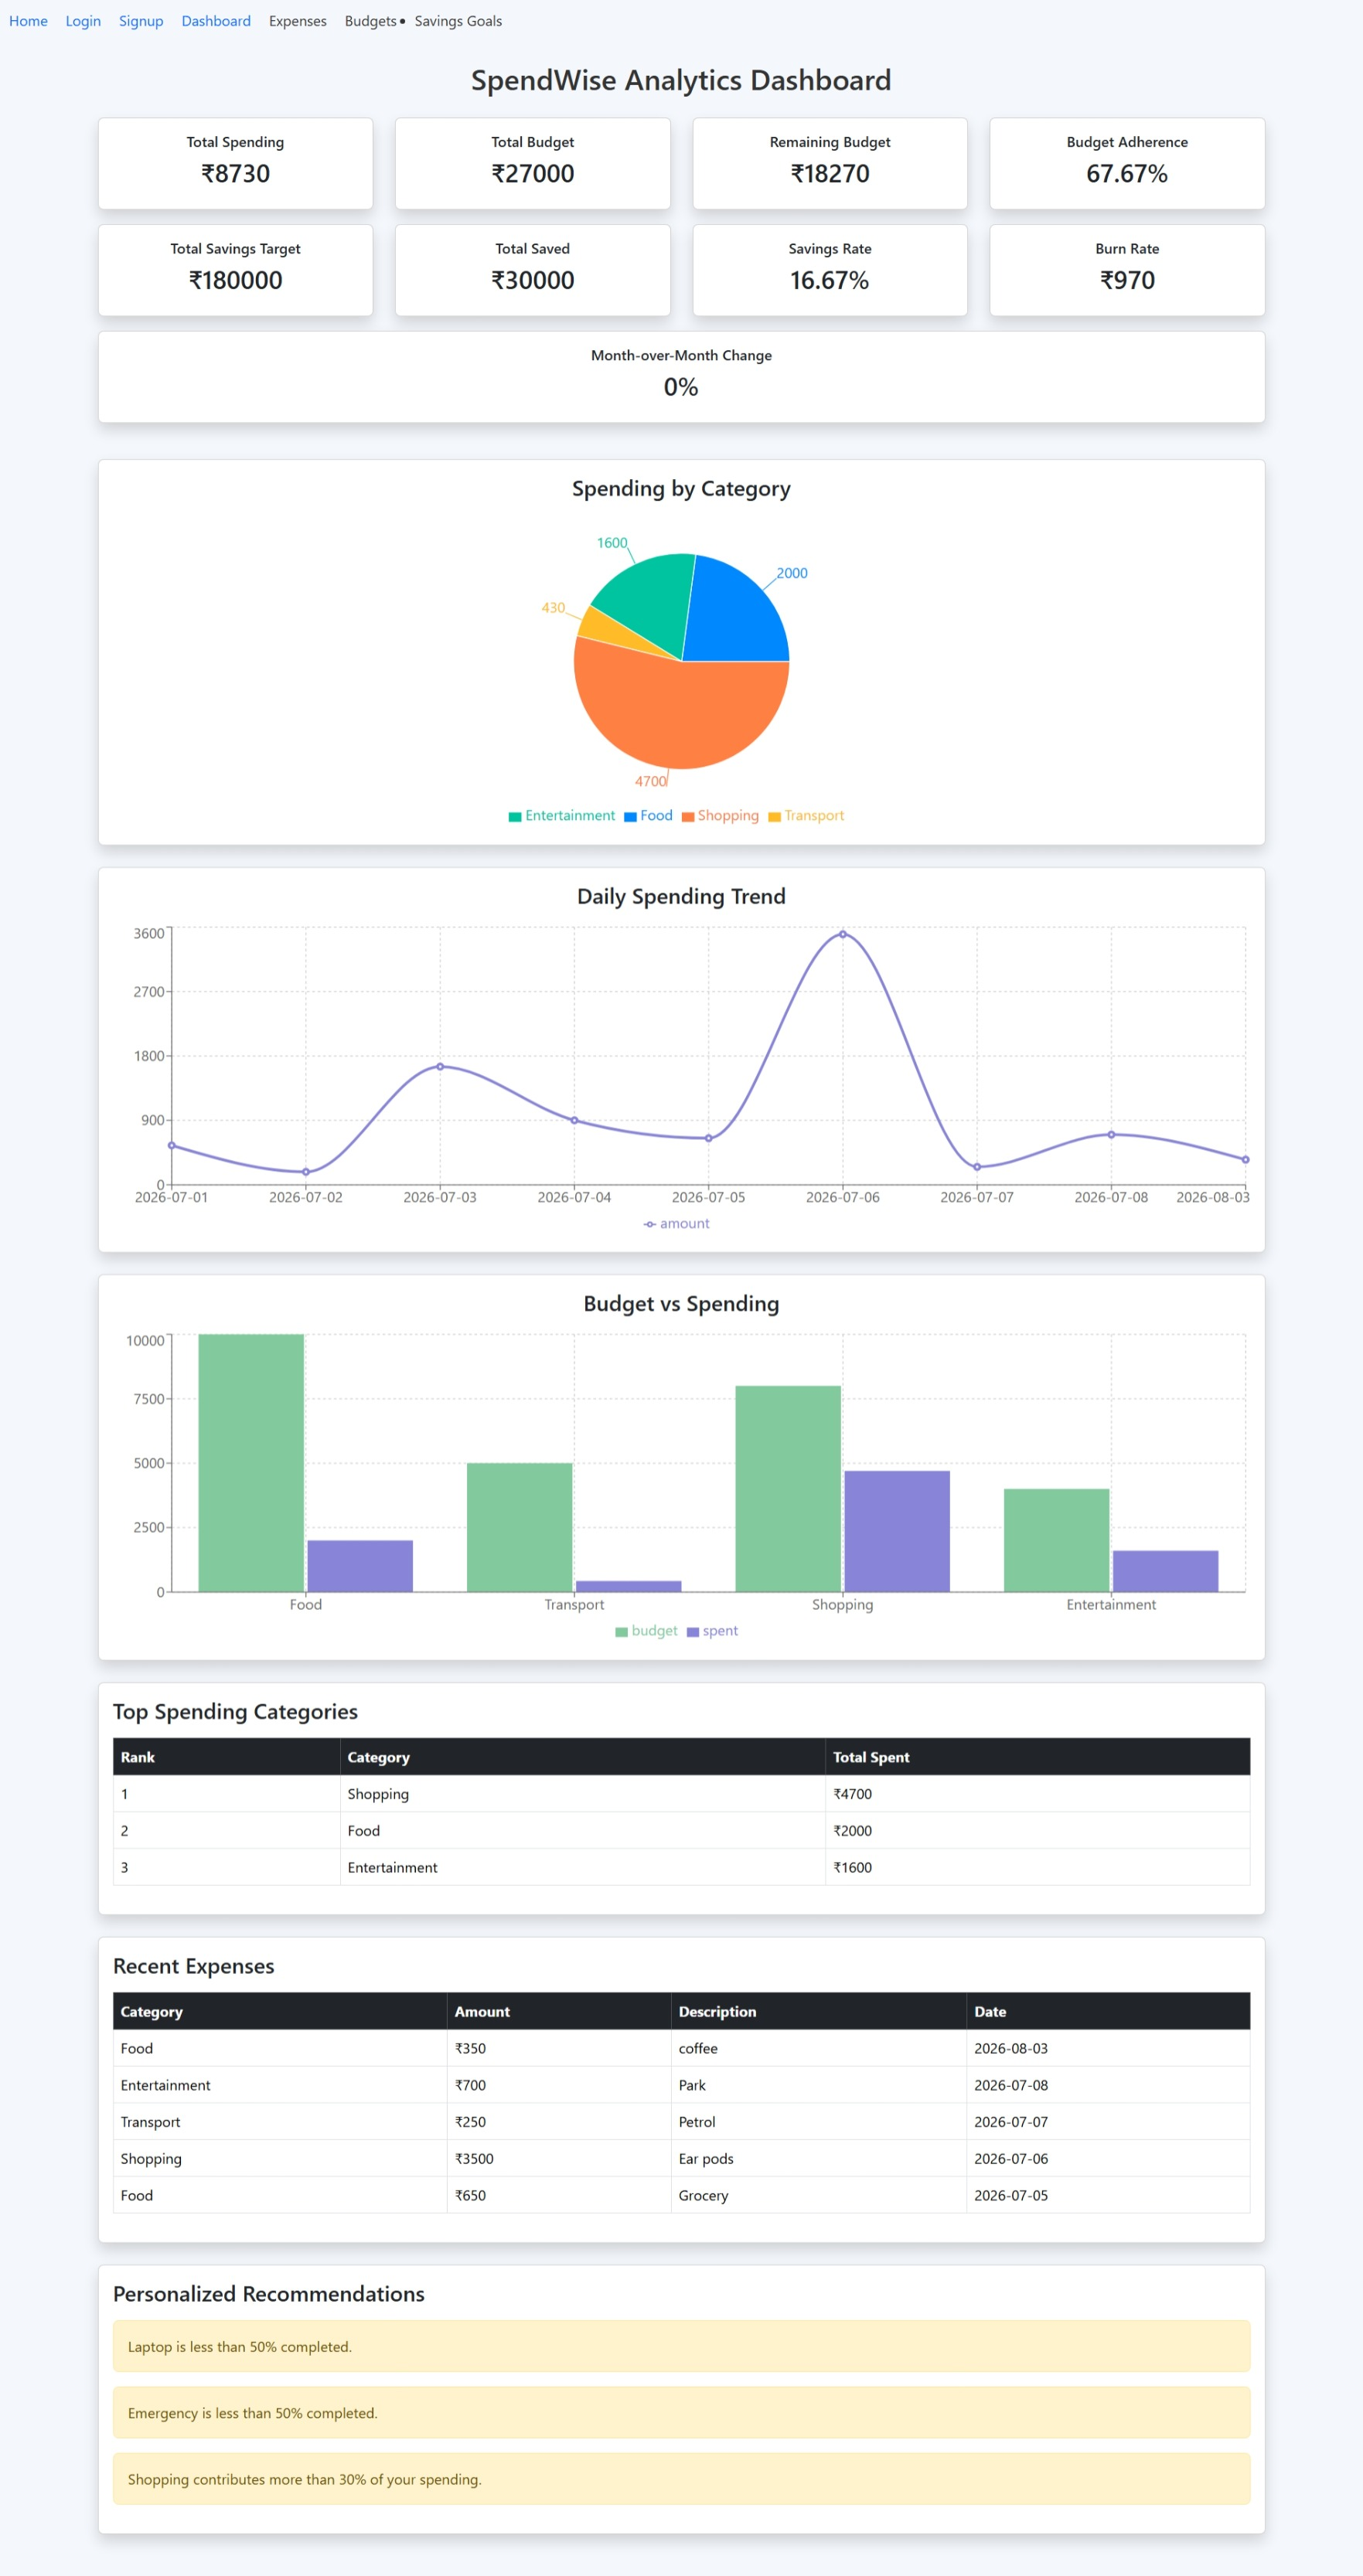

Layout of this report page (visuals, bound fields, positions):
{"tool":"powerbi","page":{"name":"Page 1","canvas":[1600,1200],"ordinal":0},"visuals":[{"type":"cardVisual","title":"Total Spending","fields":{"Data":["expenses.Total Spending"]},"box":[166.7,93.3,186.7,131.7],"z":0},{"type":"cardVisual","title":"Total Budget","fields":{"Data":["expenses.Total Budget"]},"box":[450,93.3,190,131.7],"z":1},{"type":"cardVisual","title":"Remaining Budget","fields":{"Data":["expenses.Remaining Budget"]},"box":[750,93.3,200,131.7],"z":2},{"type":"cardVisual","title":"Total Saved","fields":{"Data":["expenses.Total Saved"]},"box":[1043.3,93.3,213.3,131.7],"z":3},{"type":"cardVisual","title":"Saving Target","fields":{"Data":["expenses.Savings Target"]},"box":[1343.8,93.8,207.5,131.2],"z":4},{"type":"pieChart","title":"Spending by Category","fields":{"Category":["expenses.category"],"Y":["Sum(expenses.amount)"]},"box":[50,283.3,418.3,216.7],"z":5},{"type":"lineChart","title":"Daily Spending Trend","fields":{"Category":["expenses.date"],"Y":["Sum(expenses.amount)"]},"box":[556.7,283.3,418.3,216.7],"z":6},{"type":"clusteredBarChart","title":"Category-wise Spending","fields":{"Category":["expenses.category"],"Y":["Sum(expenses.amount)"]},"box":[58,538,402,216],"z":7},{"type":"listSlicer","title":"Filter By category","fields":{"Values":["expenses.category"]},"box":[1017.5,820,215,265],"z":8},{"type":"listSlicer","title":"Filter By date","fields":{"Values":["expenses.date"]},"box":[655,800,250,310],"z":9},{"type":"clusteredColumnChart","title":"Budget vs Spending","fields":{"Y":["Sum(budgets.monthlyBudget)"],"Category":["budgets.category"]},"box":[1080,283.3,368.3,216.7],"z":10},{"type":"clusteredBarChart","title":"Savings Goal Progress","fields":{"Category":["goals.goalName"],"Y":["Sum(goals.currentAmount)","Sum(goals.targetAmount)"]},"box":[555,537.5,487.5,215],"z":11},{"type":"tableEx","title":"Recent Expenses","fields":{"Values":["expenses.category","expenses.description","Sum(expenses.amount)","expenses.date.Variation.Date Hierarchy.Year","expenses.date.Variation.Date Hierarchy.Quarter","expenses.date.Variation.Date Hierarchy.Month","expenses.date.Variation.Date Hierarchy.Day"]},"box":[50,800,515,310],"z":12},{"type":"textbox","title":"SpendWise Financial Analytics Dashboard","box":[431.7,16.7,693.3,38.3],"z":13}]}

Visuals, with their boxes on the page's 1600x1200 design canvas (x1, y1, x2, y2). These are canvas units, not pixel positions in the 1363x2576 screenshot, which may show the page scaled, cropped or inside an application window:
"Total Spending" cardVisual: <box>167,93,353,225</box>
"Total Budget" cardVisual: <box>450,93,640,225</box>
"Remaining Budget" cardVisual: <box>750,93,950,225</box>
"Total Saved" cardVisual: <box>1043,93,1257,225</box>
"Saving Target" cardVisual: <box>1344,94,1551,225</box>
"Spending by Category" pieChart: <box>50,283,468,500</box>
"Daily Spending Trend" lineChart: <box>557,283,975,500</box>
"Category-wise Spending" clusteredBarChart: <box>58,538,460,754</box>
"Filter By category" listSlicer: <box>1018,820,1232,1085</box>
"Filter By date" listSlicer: <box>655,800,905,1110</box>
"Budget vs Spending" clusteredColumnChart: <box>1080,283,1448,500</box>
"Savings Goal Progress" clusteredBarChart: <box>555,538,1042,752</box>
"Recent Expenses" tableEx: <box>50,800,565,1110</box>
"SpendWise Financial Analytics Dashboard" textbox: <box>432,17,1125,55</box>
